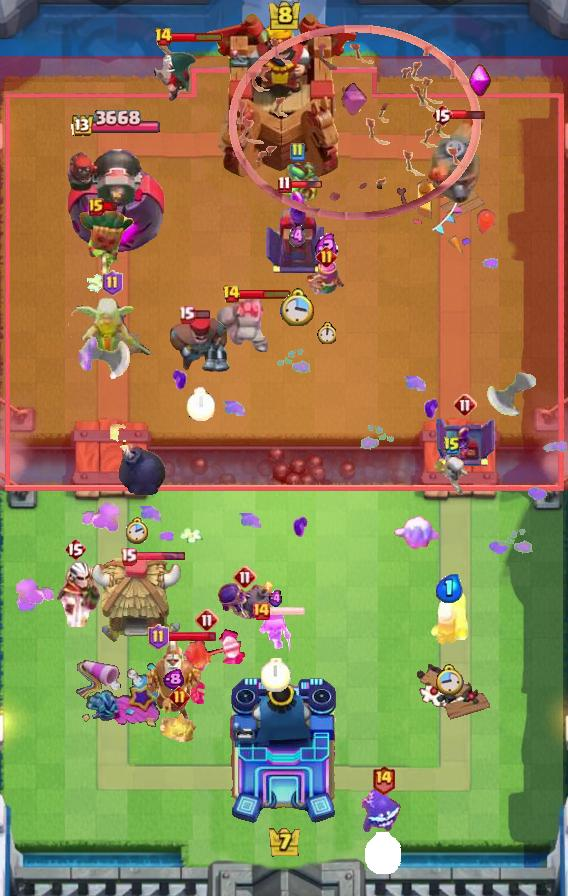baby-dragon: (107, 424, 167, 496)
cannon: (306, 261, 346, 299)
dark-prince: (409, 119, 499, 205)
electro-spirit: (315, 230, 338, 264), (436, 574, 463, 602), (163, 670, 185, 691), (289, 224, 305, 249), (268, 590, 284, 607)
elixir: (365, 832, 401, 874), (280, 288, 316, 326), (261, 658, 291, 692), (186, 387, 215, 421), (435, 665, 464, 696), (127, 517, 150, 545), (317, 322, 336, 344)
elixir-collector: (145, 636, 201, 732)
emote: (166, 629, 217, 642), (172, 31, 225, 43), (240, 288, 293, 300), (134, 551, 186, 562), (451, 107, 486, 120), (269, 605, 306, 617), (289, 180, 323, 190), (193, 308, 212, 319), (101, 201, 119, 212)
giant-snowball: (273, 160, 321, 202)
goblin: (258, 612, 294, 652)
goblin-ball: (216, 579, 274, 623)
goblin-barrel: (76, 205, 136, 281)
heal-spirit: (434, 455, 470, 495)
ice-spirit-evolution: (158, 710, 200, 746)
ice-spirit-evolution-symbol: (265, 188, 329, 276), (433, 415, 497, 469)
king-tower: (205, 11, 363, 181), (228, 676, 340, 826)
mirror: (392, 515, 442, 553)
phoenix-small: (167, 312, 233, 374)
poison: (68, 289, 156, 373)
prince: (91, 555, 185, 645)
royal-giant: (487, 370, 543, 426), (79, 335, 131, 385)
selected: (68, 110, 159, 139)
skeleton-barrel: (229, 23, 481, 221)
skeleton-king: (38, 561, 112, 627)
skeleton-king-skill: (340, 82, 368, 118), (468, 64, 492, 98)
spear-goblin: (362, 789, 404, 835)
tesla: (152, 40, 198, 104)
tesla-evolution: (168, 627, 246, 707)
text: (371, 765, 396, 796), (453, 393, 477, 417), (233, 565, 257, 589), (195, 608, 219, 632), (147, 624, 169, 650), (101, 270, 122, 296), (431, 103, 453, 127), (64, 537, 86, 561), (316, 245, 337, 266), (169, 686, 190, 707), (251, 601, 271, 621), (154, 27, 173, 47), (223, 284, 242, 304), (443, 436, 461, 456), (119, 547, 137, 566), (178, 304, 195, 323), (289, 142, 305, 162), (88, 198, 104, 216), (277, 175, 291, 193)
tombstone: (428, 589, 470, 647)
tower-bar: (62, 138, 166, 256)
valkyrie-evolution: (214, 290, 272, 354)
